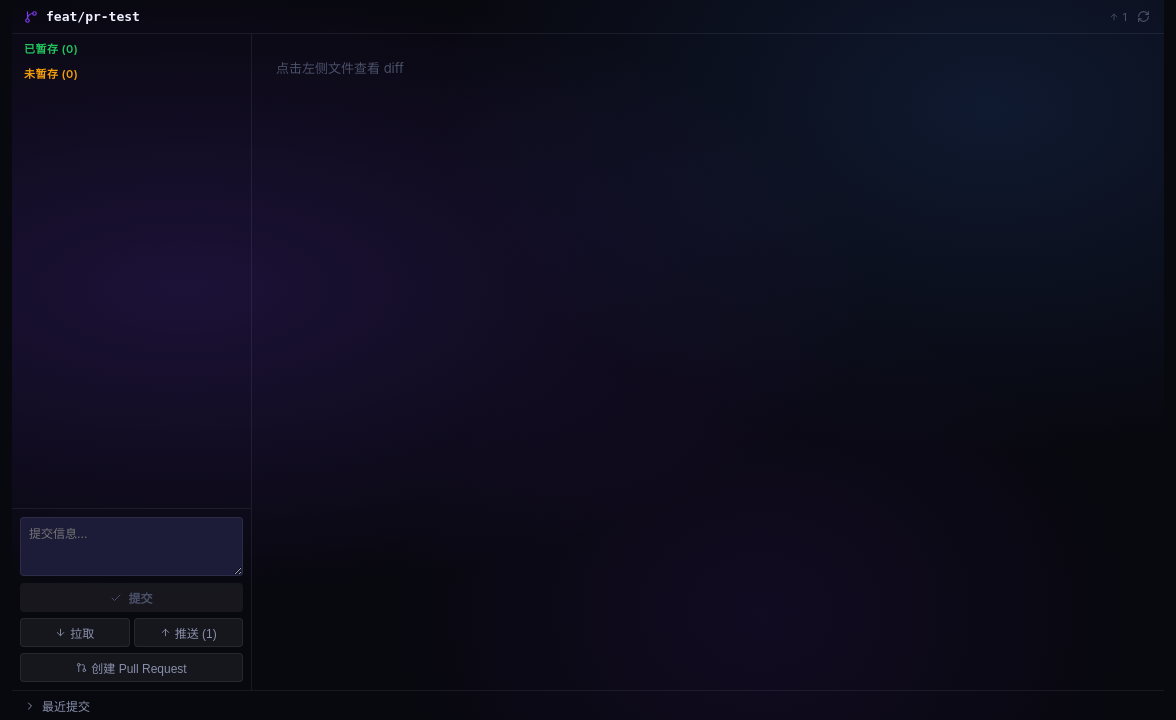
GitPanel - PR 创建流程 › PR 创建失败显示错误信息
Click the button "创建 Pull Request".
click(132, 668)  # box [20,653,243,682]
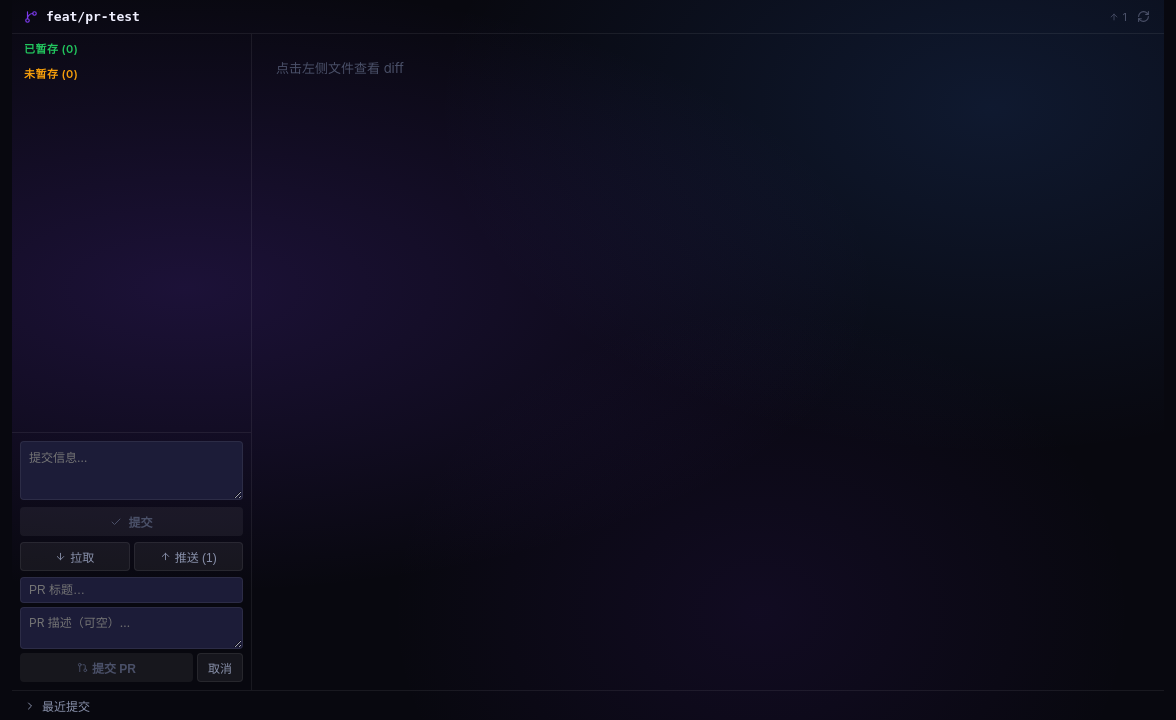
Expected: the field with placeholder "PR 标题…" is shown
Type "错误测试" into the field with placeholder "PR 标题…".
click(132, 590); type("错误测试")  # box [20,577,243,603]
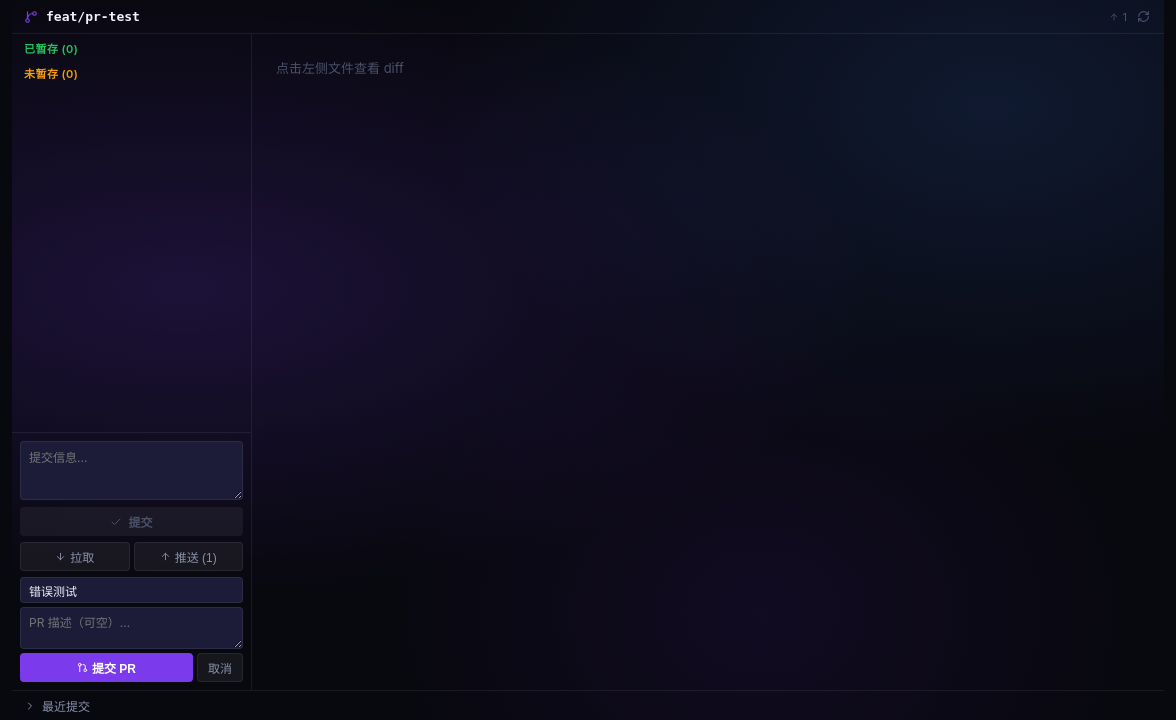
Click the button "提交 PR".
click(106, 668)  # box [20,653,193,682]
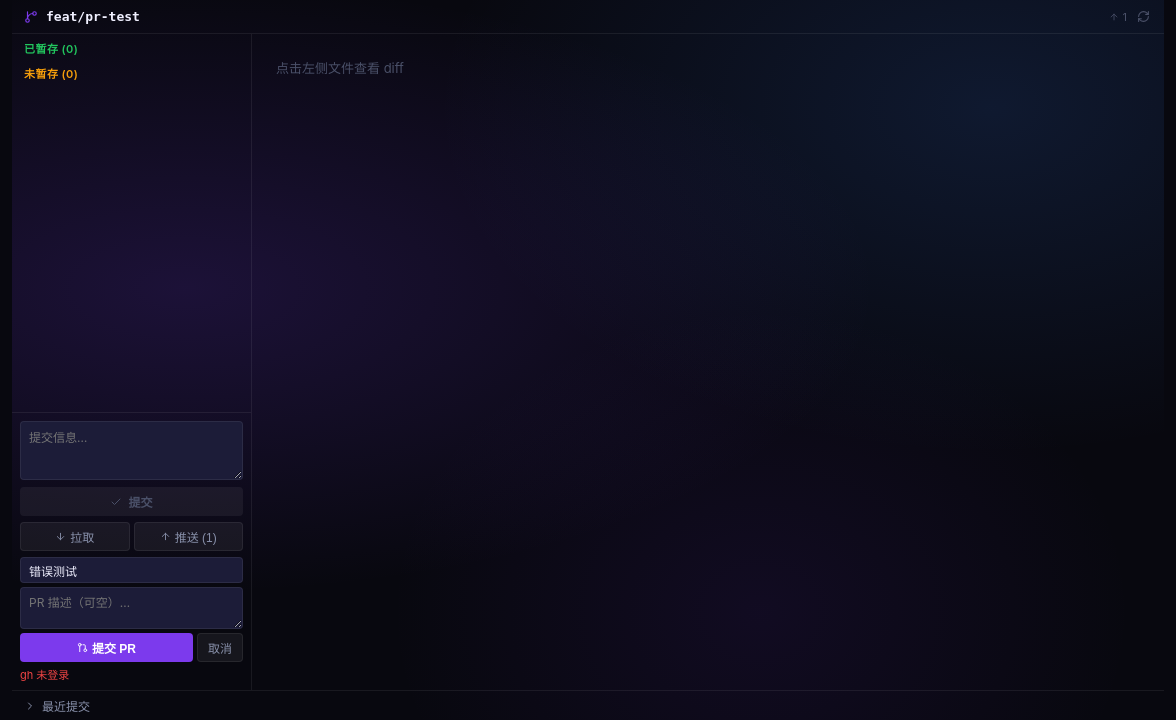
Expected: the text "gh 未登录" is shown, [20,668,69,682]
